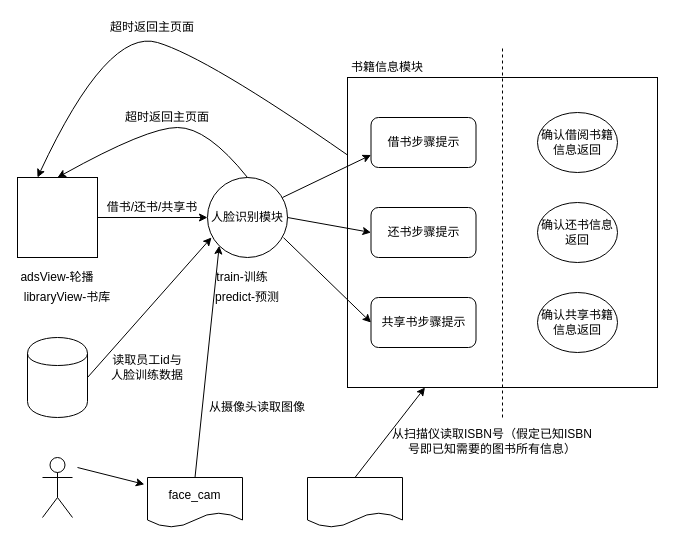
The diagram is 675 pixels wide and 555 high, and some of its shapes have lost their labels. Each missing label, with the centre of its shape:
Actor: point 57,487
ISBN_scan: point 354,502
主页: point 57,217
员工信息: point 57,377
